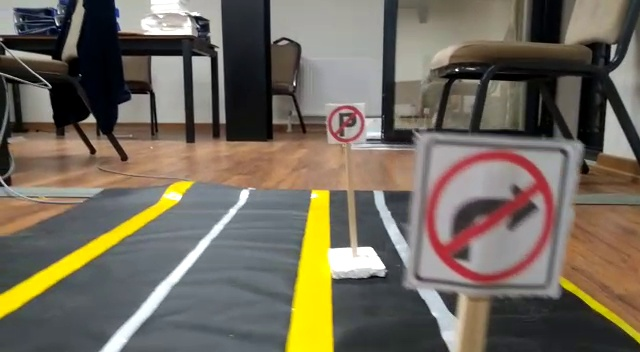park_yapilmaz: (322, 101, 372, 146)
saga_donulmez: (426, 140, 561, 286)
